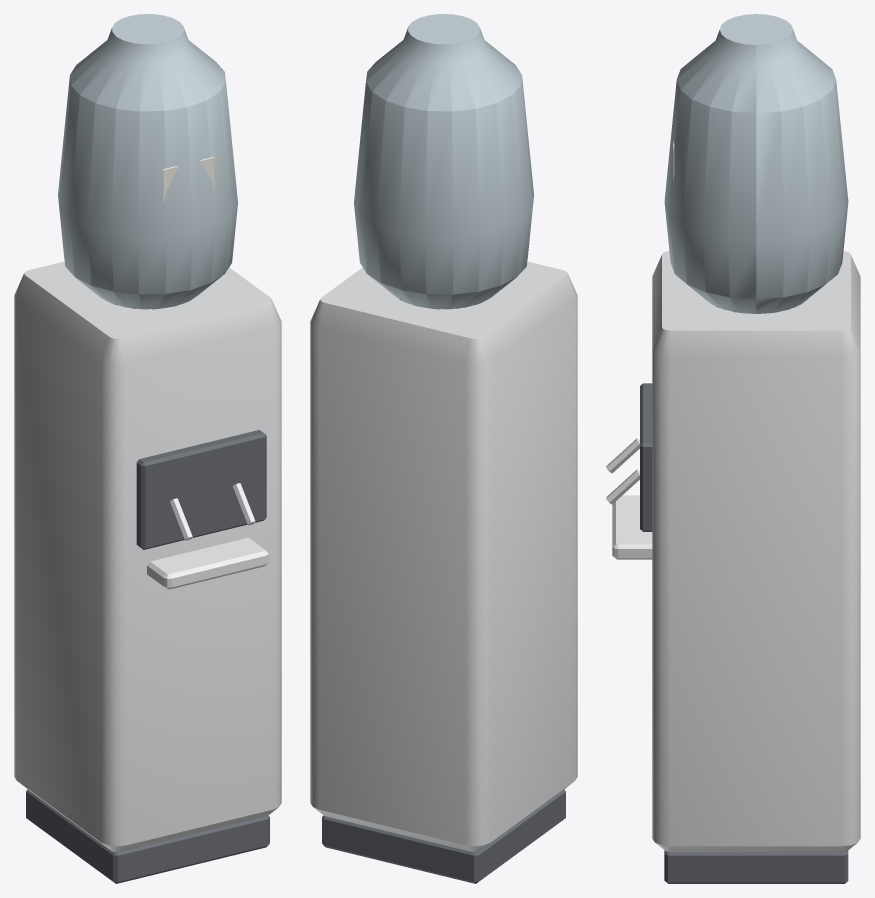
The model's file is police-station-and-detective-office-water-cooler-088f1fe2__29962.glb.
3 views of the same model, side by side, from view 1: azimuth 30°, elevation 25°; view 2: azimuth 150°, elevation 25°; view 3: azimuth 270°, elevation 25° (orthographic).
Parts seen in each view (by area): view 1: water-cooler; view 2: water-cooler; view 3: water-cooler.
Boxes of the visible parts, x1,y1,x2,y2 form: water-cooler: (14,14,281,883); water-cooler: (310,14,577,883); water-cooler: (606,14,860,883).
Size of the model in its own units: 0.34 by 1.47 by 0.4149.
